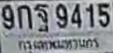1: (85, 3, 93, 27)
4: (70, 2, 81, 27)
5: (97, 2, 109, 26)
9: (1, 3, 13, 28), (55, 3, 67, 27)
A01: (16, 4, 31, 28)
A16: (33, 3, 48, 29)
BKK: (15, 35, 101, 51)
